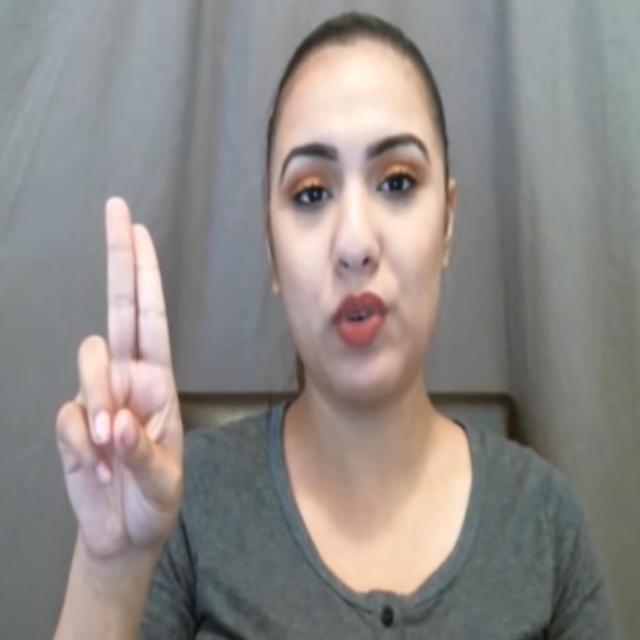U: (54, 192, 186, 564)
